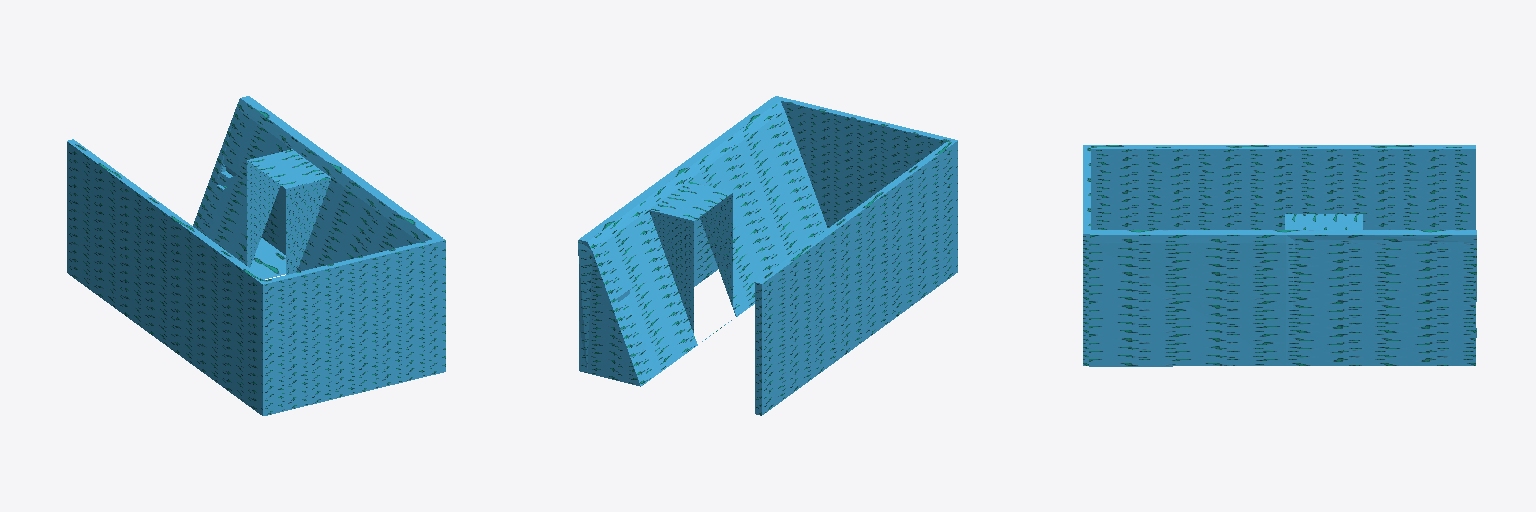
3 views of the same model, side by side, from view 1: azimuth 30°, elevation 25°; view 2: azimuth 150°, elevation 25°; view 3: azimuth 270°, elevation 25° (orthographic).
Visible parts, largest first — view 1: ParedeFBXASC032Left, ParedeFBXASC032Bottom, ParedeFBXASC032Right, Corredor; view 2: ParedeFBXASC032Right, ParedeFBXASC032Left, ParedeFBXASC032Bottom, Corredor; view 3: ParedeFBXASC032Right, ParedeFBXASC032Left, ParedeFBXASC032Bottom, Corredor.
Boxes of the visible parts, box(x1,y1,x2,y2) form: ParedeFBXASC032Left: box(67, 139, 264, 412); ParedeFBXASC032Bottom: box(259, 238, 445, 415); ParedeFBXASC032Right: box(193, 96, 442, 278); Corredor: box(247, 149, 330, 274); ParedeFBXASC032Right: box(578, 98, 827, 386); ParedeFBXASC032Left: box(755, 142, 953, 415); ParedeFBXASC032Bottom: box(773, 96, 957, 274); Corredor: box(649, 181, 732, 332); ParedeFBXASC032Right: box(1089, 230, 1476, 366); ParedeFBXASC032Left: box(1091, 145, 1475, 229); ParedeFBXASC032Bottom: box(1083, 145, 1090, 365); Corredor: box(1285, 214, 1362, 229).
Size of the model in its own units: 1310 by 901 by 2443.
1 materials, 1 textured.